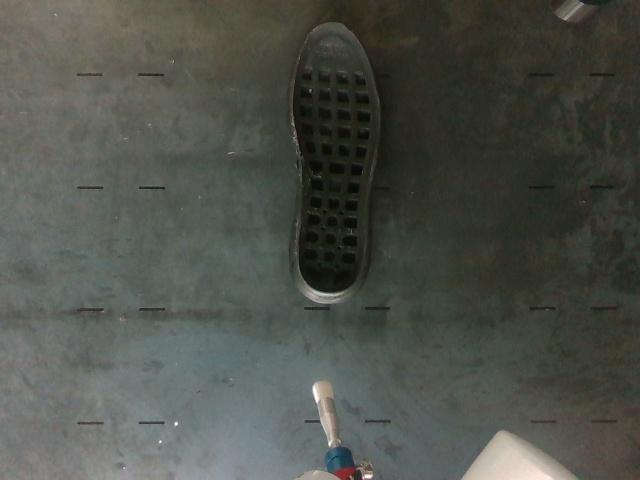shoes: (293, 23, 380, 294)
